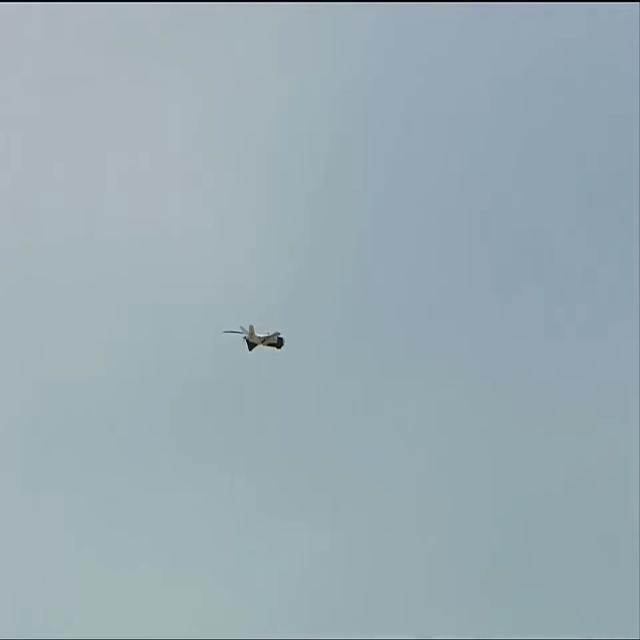iha: (236, 324, 279, 356)
